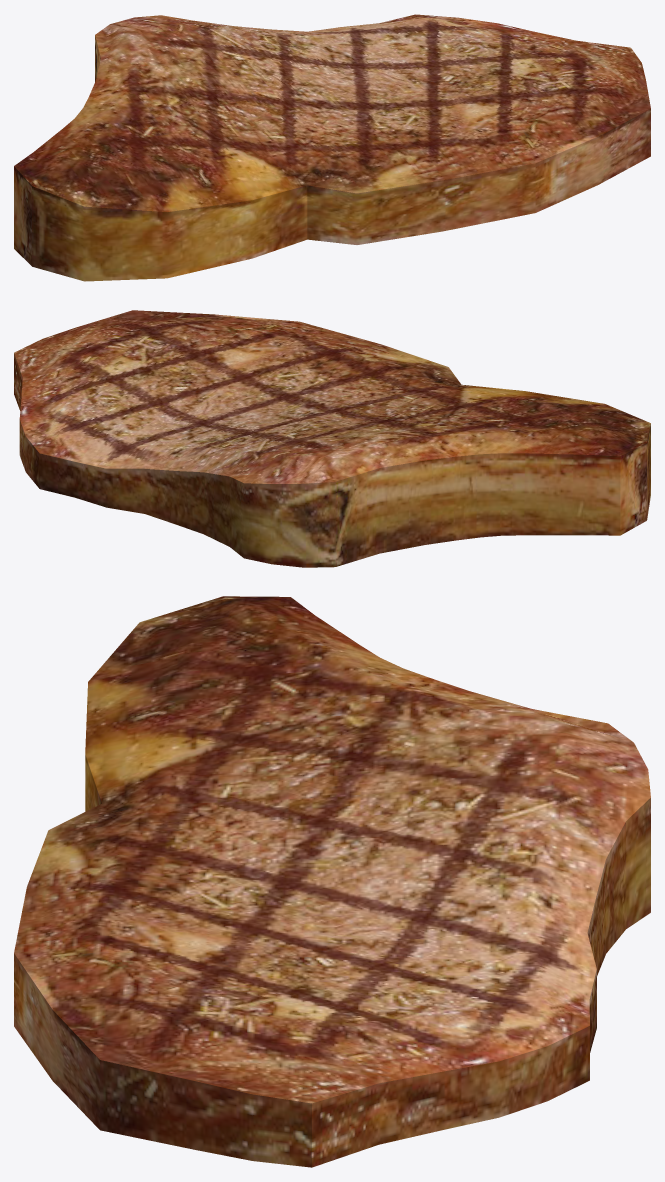
Rendered from beef.glb.
The picture shows the model from 3 angles, top to bottom: view 1: azimuth 30°, elevation 25°; view 2: azimuth 150°, elevation 25°; view 3: azimuth 270°, elevation 25°; orthographic projection. The views are drawn at different scales.
Parts seen in each view (by area): view 1: Object_2; view 2: Object_2; view 3: Object_2.
Boxes of the visible parts, bbox=[...] form: Object_2: bbox=[14, 14, 650, 281]; Object_2: bbox=[14, 310, 650, 567]; Object_2: bbox=[14, 596, 650, 1167].
Size of the model in its own units: 32.35 by 5.07 by 19.25.
Materials: 1 (1 with a texture image).
